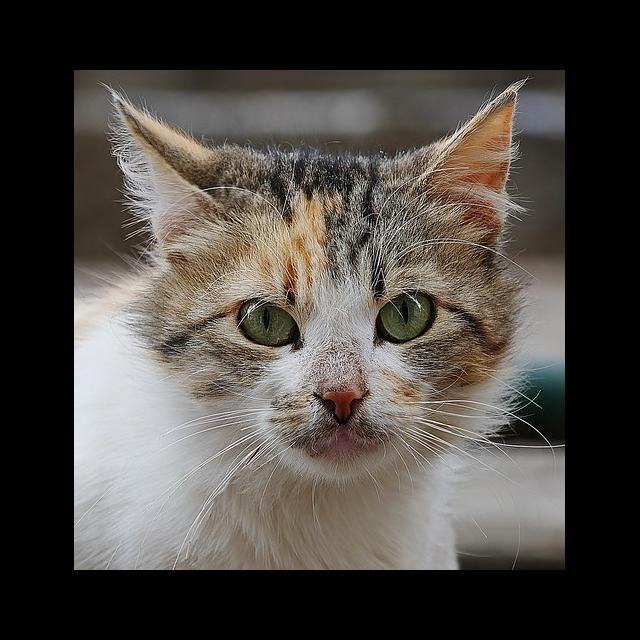animals: (75, 91, 518, 570)
